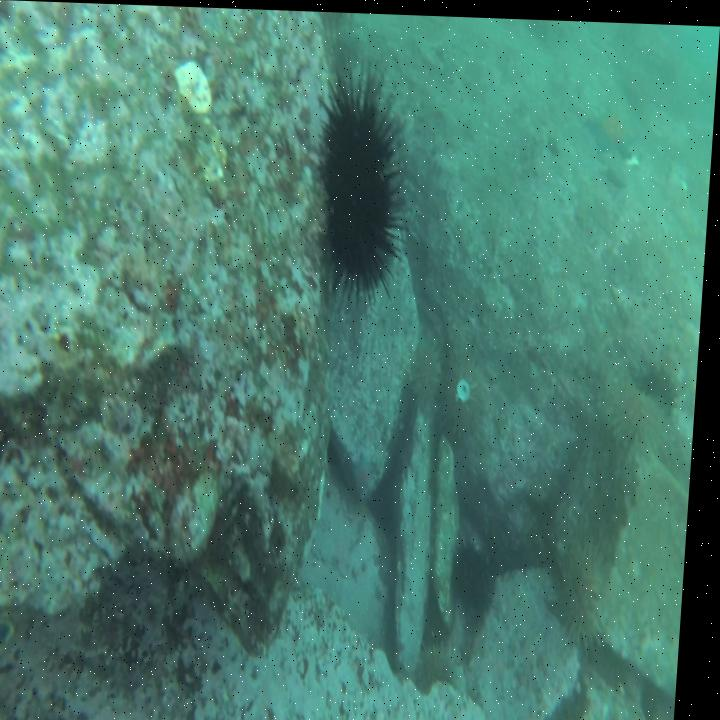echinus: (305, 68, 415, 301), (559, 532, 617, 645), (440, 335, 496, 440), (609, 376, 674, 452), (453, 528, 506, 611), (414, 328, 451, 411), (424, 628, 471, 689)
starfish: (584, 95, 644, 154)
